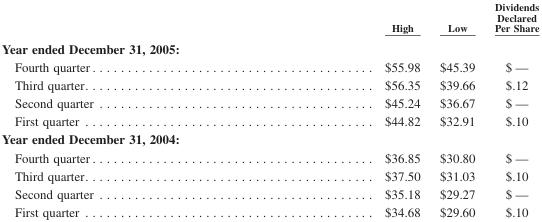table: (0, 0, 538, 218)
table column: (0, 0, 239, 218), (239, 0, 429, 218), (429, 0, 484, 218), (484, 0, 538, 218)
table column header: (0, 0, 538, 37)
table projected row header: (0, 37, 538, 57), (0, 129, 538, 148)
table row: (0, 0, 538, 37), (0, 37, 538, 57), (0, 129, 538, 148), (0, 57, 538, 75), (0, 75, 538, 93), (0, 93, 538, 111), (0, 111, 538, 129), (0, 148, 538, 166), (0, 166, 538, 184), (0, 184, 538, 202), (0, 202, 538, 218)
